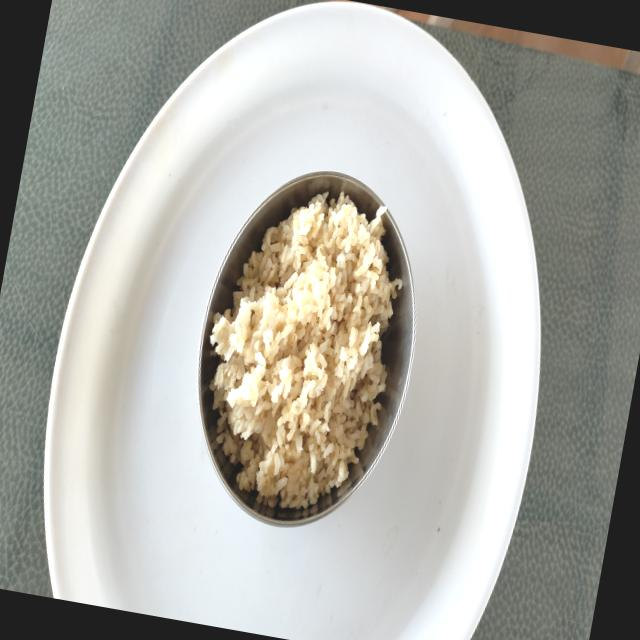brown-rice: (210, 192, 400, 509)
